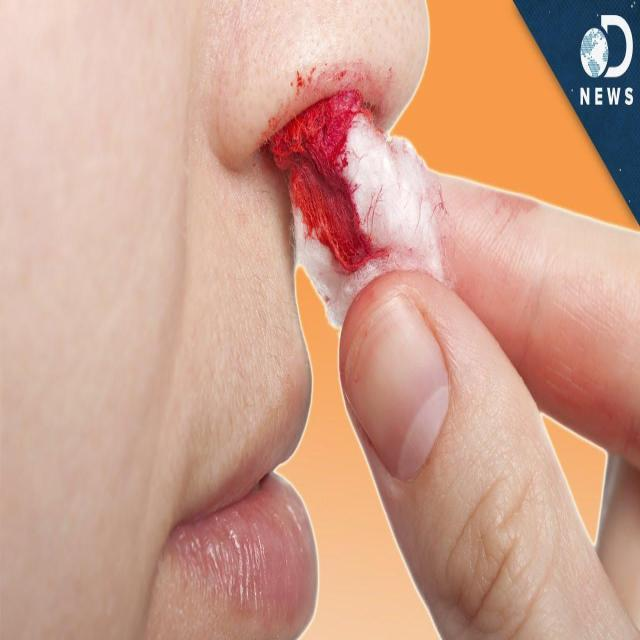flood: (268, 88, 369, 271)
